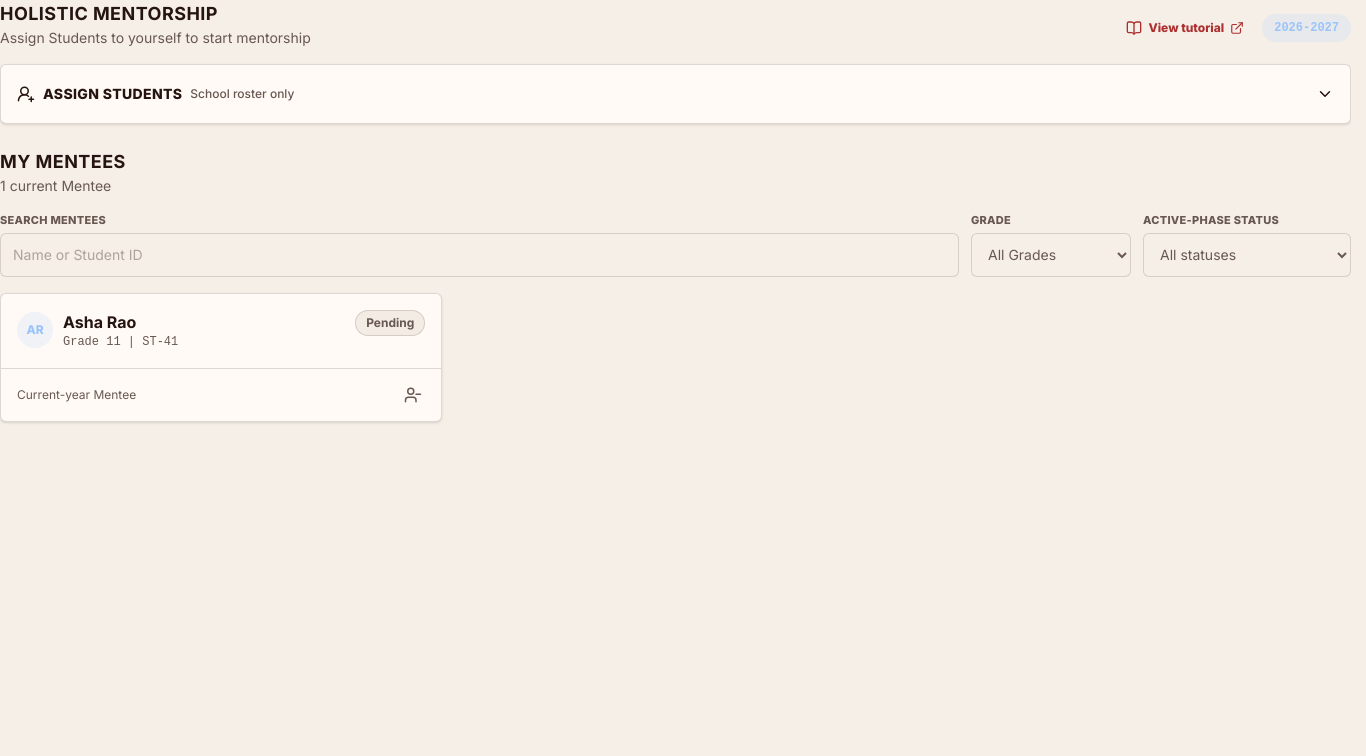
it: TeacherMappingWorkspace › warns about access loss and confirms a successful removal
Click the button named "Remove Asha Rao".
click(413, 394)  # box x1=391 y1=372 x2=435 y2=416
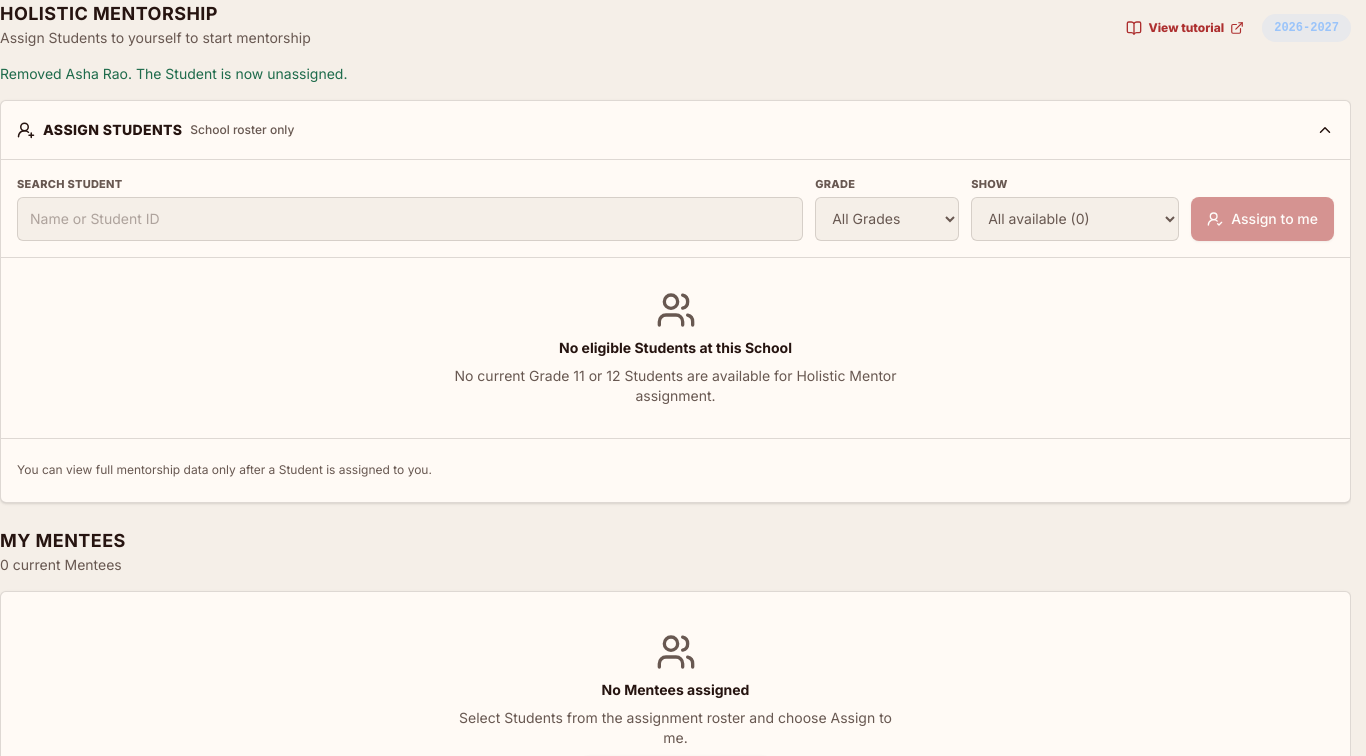
Now the heading "No Mentees assigned" is shown, box x1=602 y1=680 x2=749 y2=698
